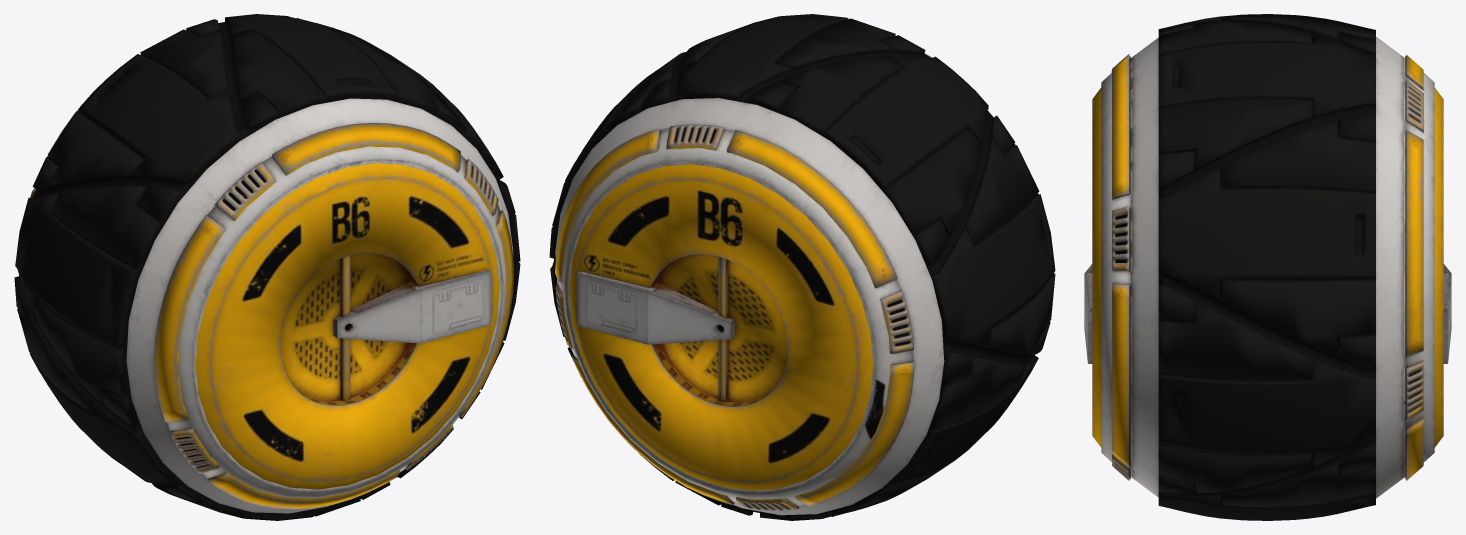
The model's file is sci-fi-wheel-7b9867.glb.
3 renders of one model, left to right at view 1: azimuth 30°, elevation 25°; view 2: azimuth 150°, elevation 25°; view 3: azimuth 270°, elevation 25°, orthographic. The views are drawn at different scales.
Visible parts, largest first — view 1: Object_6; view 2: Object_6; view 3: Object_6.
Boxes of the visible parts, x1,y1,x2,y2 form: Object_6: (14,14,520,520); Object_6: (549,14,1055,520); Object_6: (1084,14,1451,520).
Bounding box in the file's own units: 0.68 × 0.68 × 0.4929.
1 material, 1 textured.
